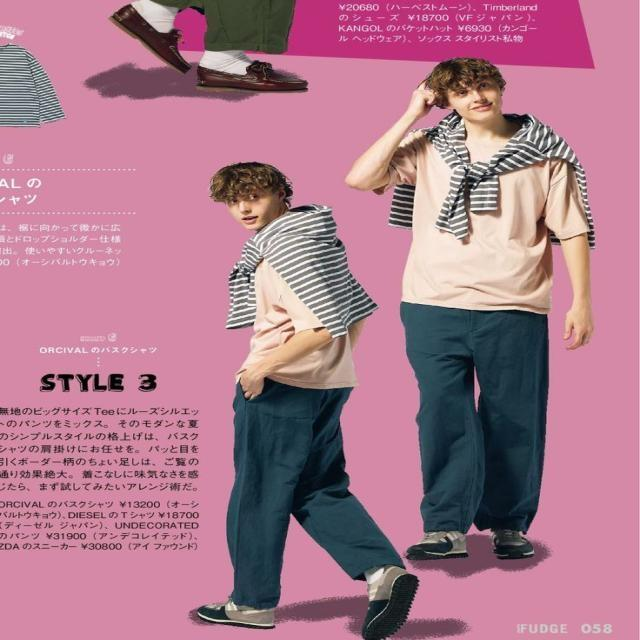person: (344, 56, 596, 561), (196, 161, 420, 638), (107, 0, 308, 91)
